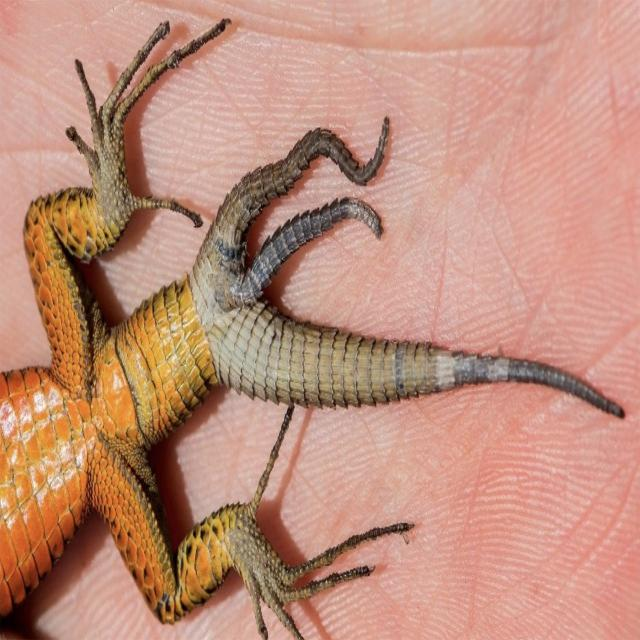Lizard: (0, 30, 624, 639)
